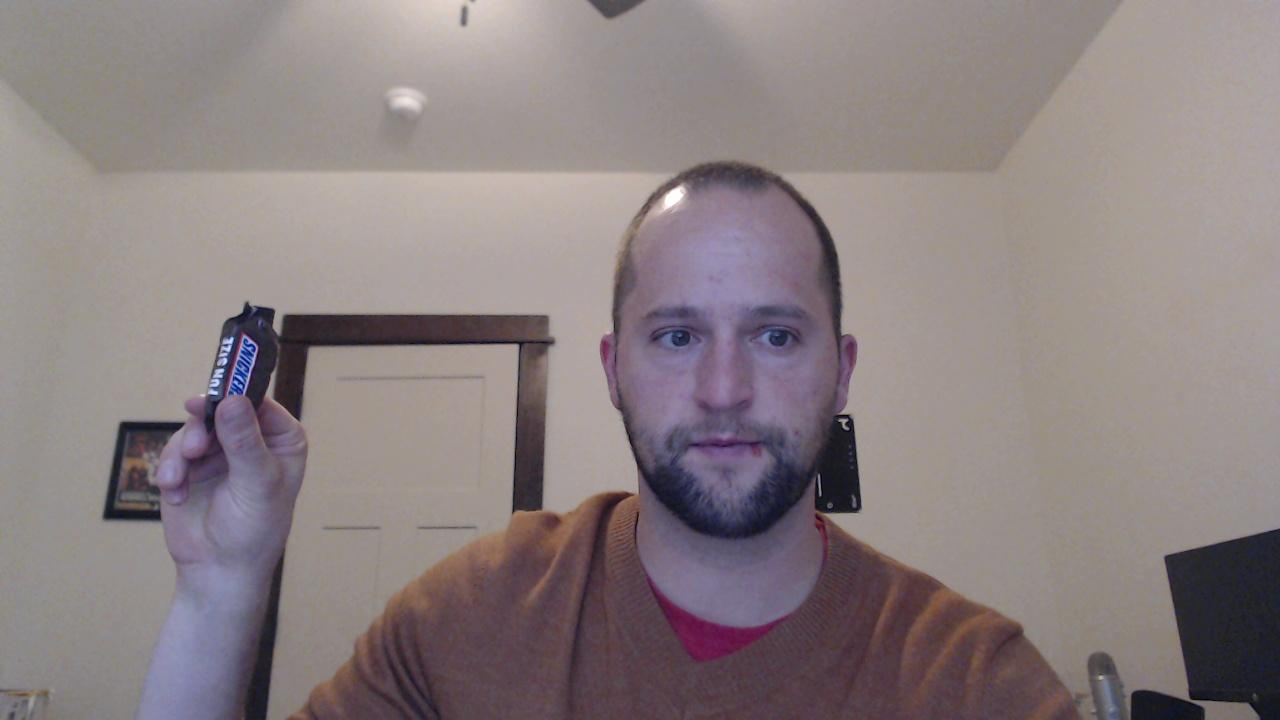Snickers: (198, 296, 291, 441)
